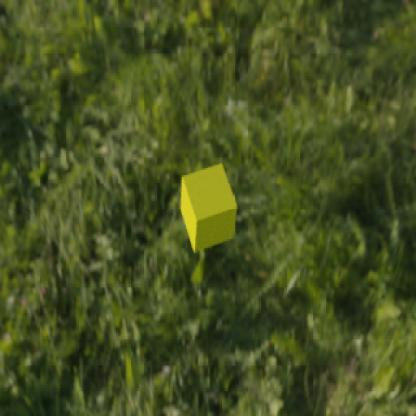cube: (180, 162, 236, 252)
